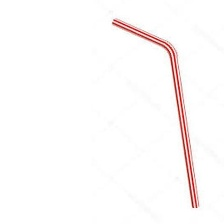drinking_straw: (106, 15, 203, 211)
